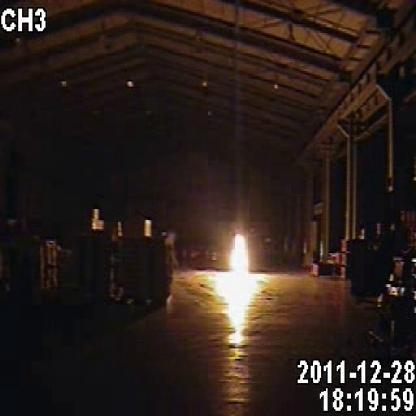fire: (198, 219, 286, 370)
